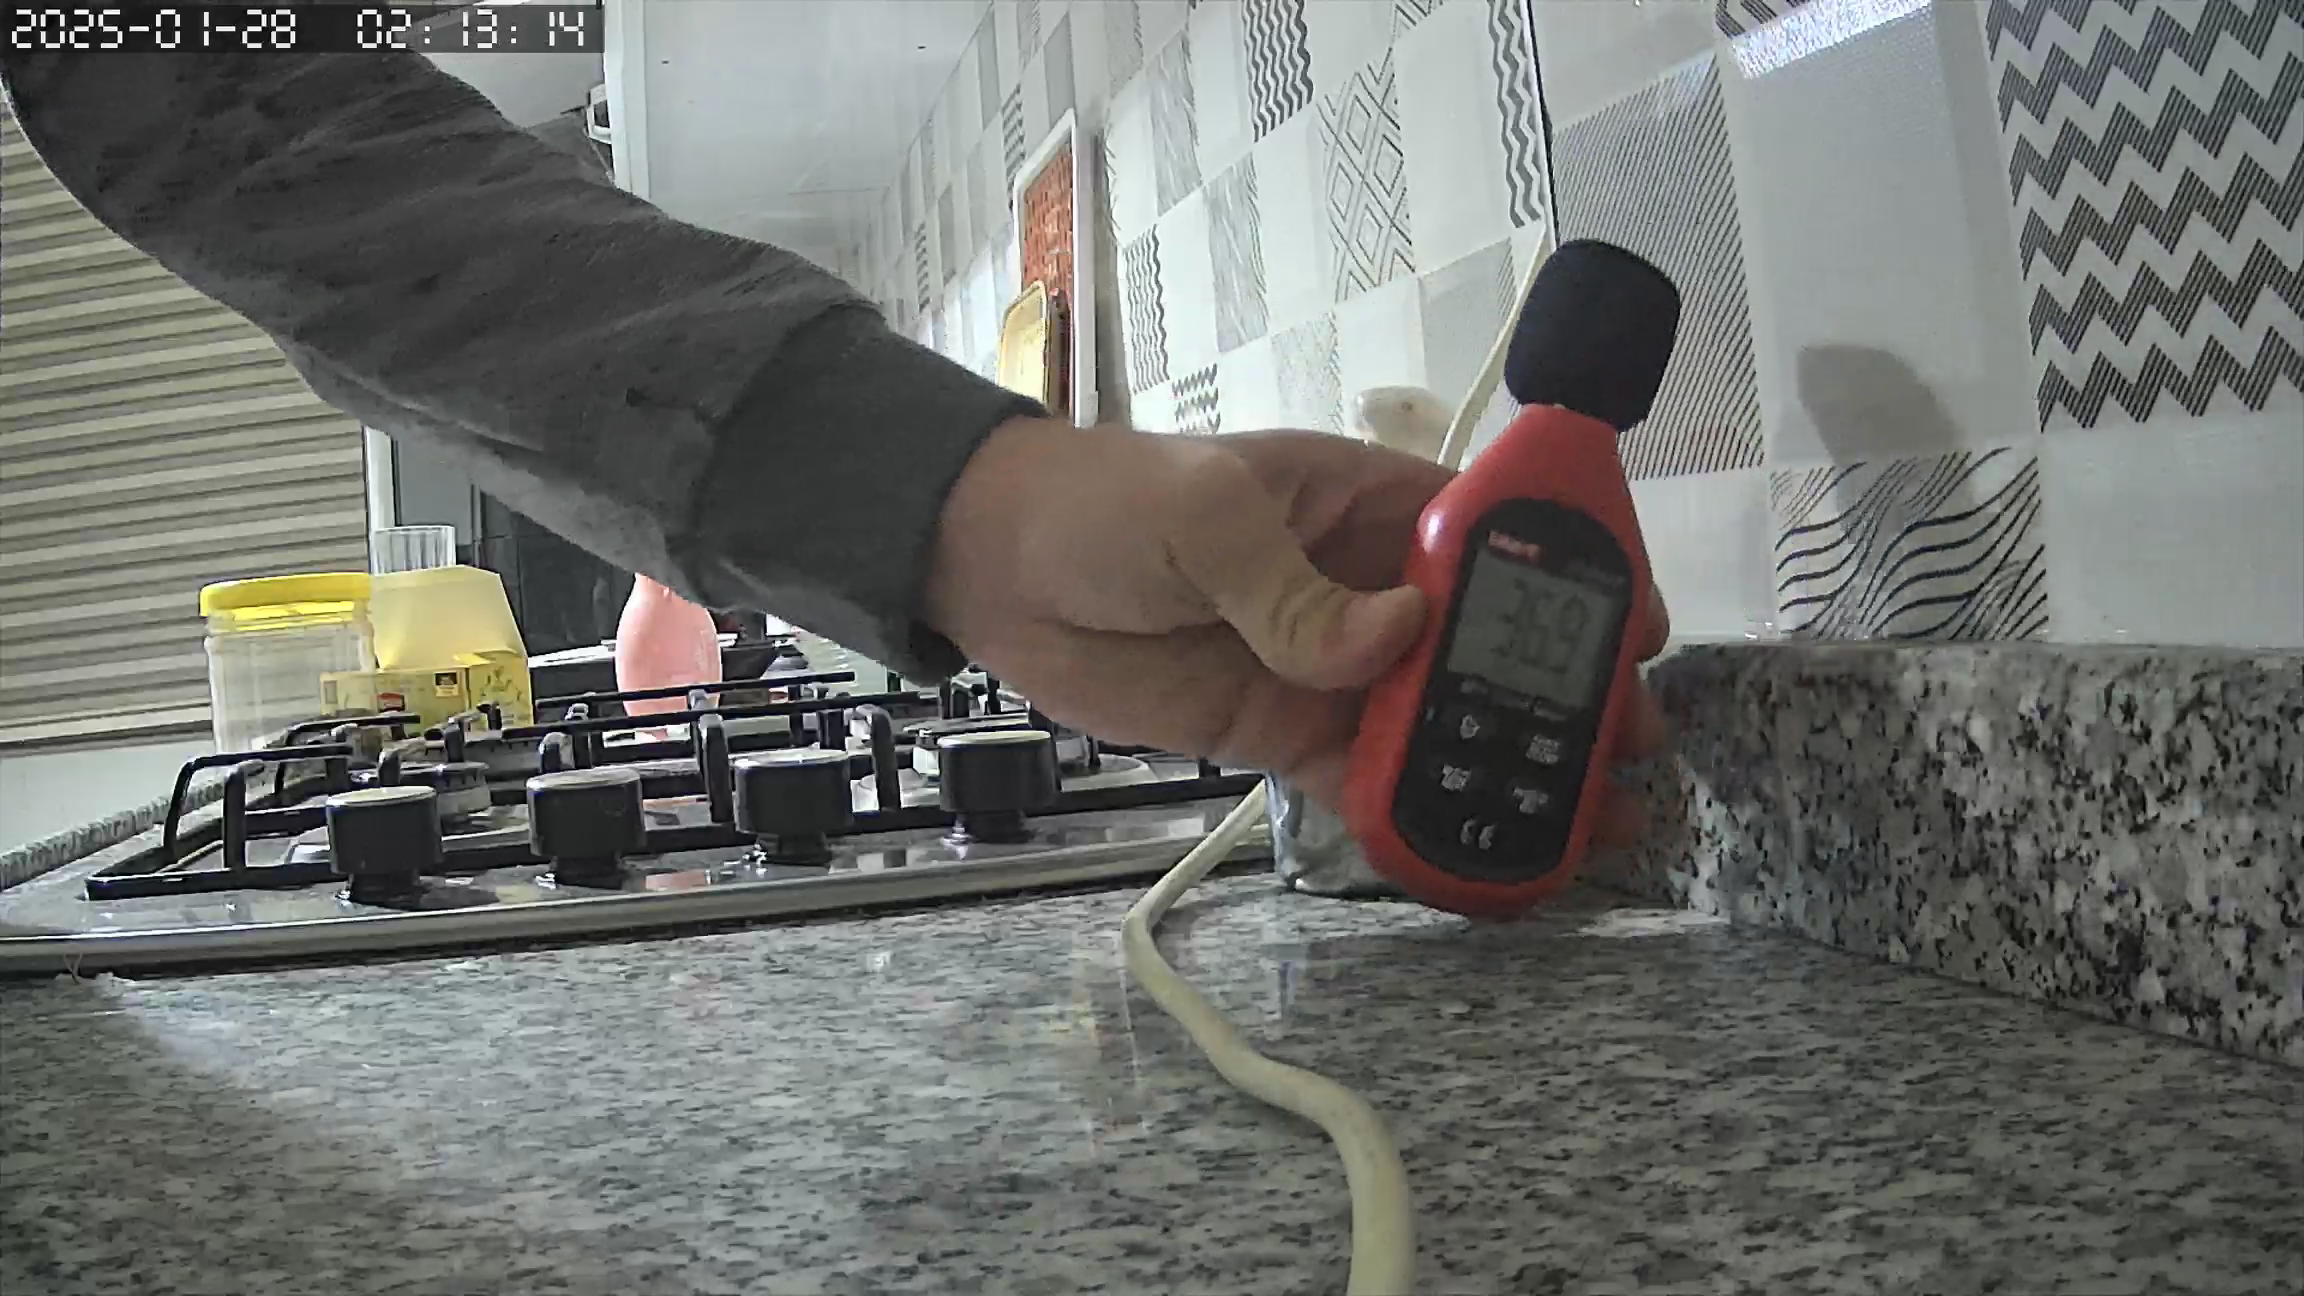screen: (1449, 548, 1612, 714)
